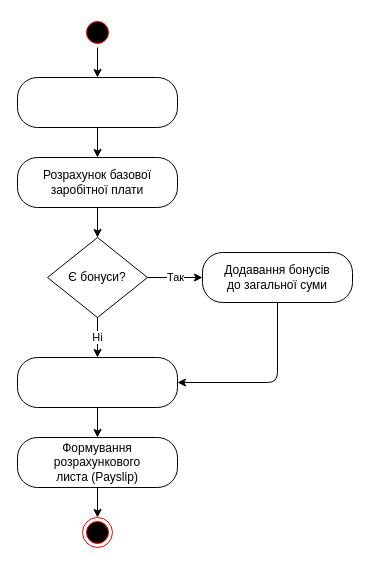
Image size: 370x565. Some labels were removed from this diagram. The centre of each missing label's shape, as x and y in pixels:
"Вирахування податків та зборів" goes at pixel 97 382.
"Отримання даних про відпрацьовані години" goes at pixel 97 102.
